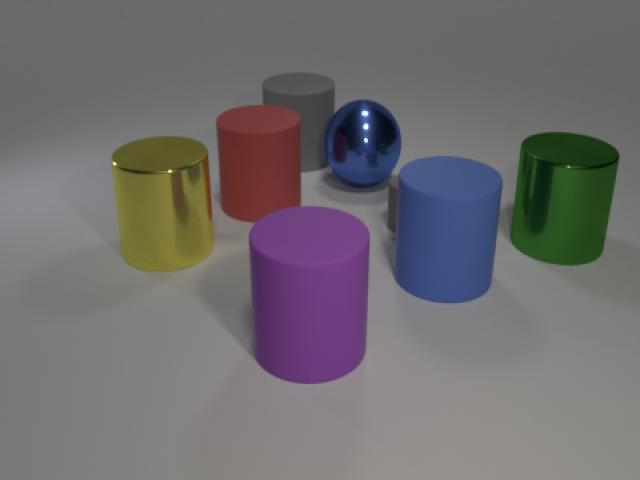cylinder: (393, 154, 505, 308), (511, 128, 622, 270), (112, 128, 217, 276), (216, 105, 301, 225), (259, 70, 336, 172)
round ball: (248, 207, 371, 384), (324, 100, 403, 189)
